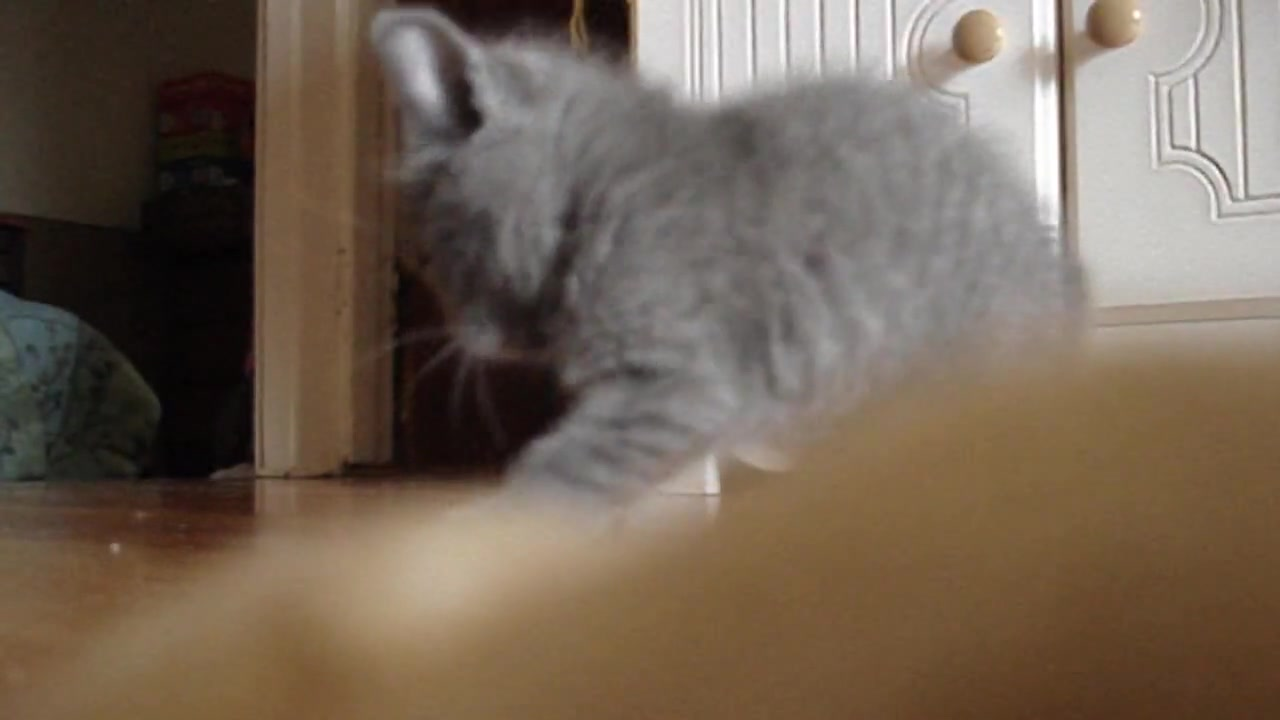cat: (364, 5, 1085, 533)
